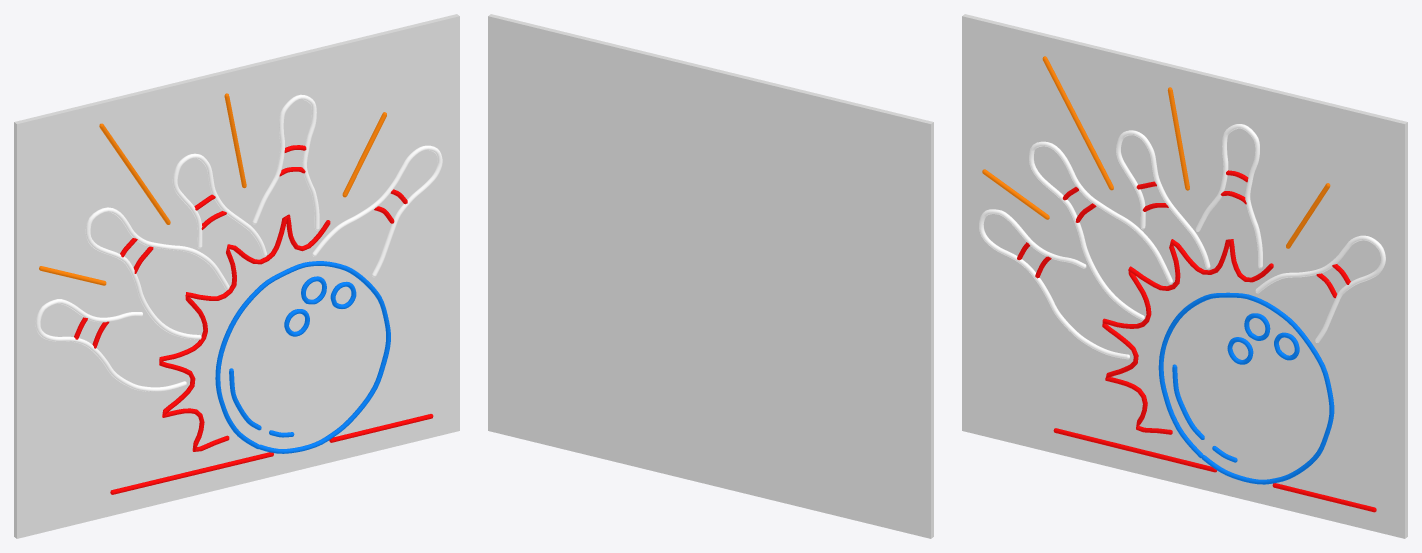
File: ボウリング.glb
3 renders of one model, left to right at view 1: azimuth 30°, elevation 25°; view 2: azimuth 150°, elevation 25°; view 3: azimuth 330°, elevation 25°, orthographic.
Size of the model in its own units: 600 by 537 by 12.
